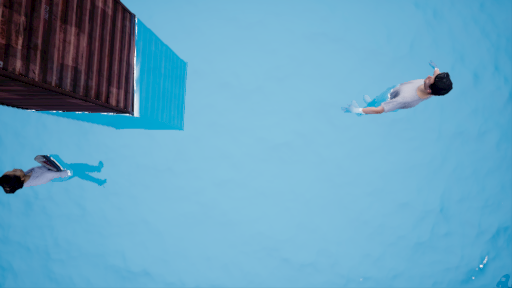person: (2, 150, 129, 208), (326, 65, 443, 127)
